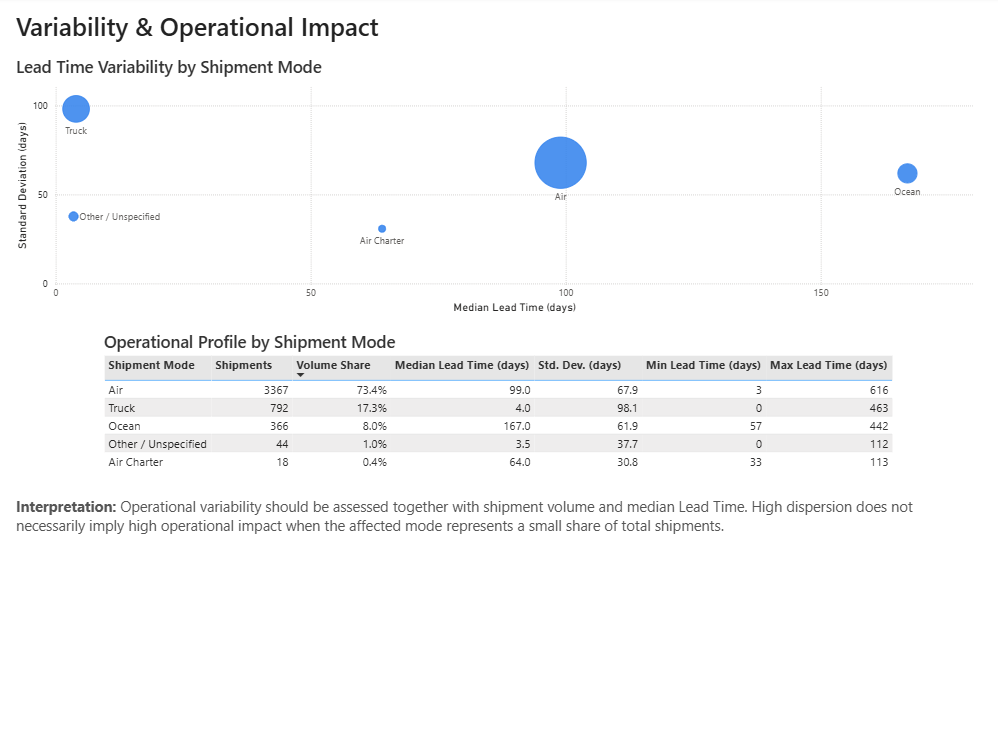

Layout of this report page (visuals, bound fields, positions):
{"tool":"powerbi","page":{"name":"Variability & Operational Impact","canvas":[1280,720],"ordinal":1},"visuals":[{"type":"textbox","box":[16,16,496,64],"z":0},{"type":"scatterChart","title":"Lead Time Variability by Shipment Mode","fields":{"X":["shipments_lead_time_dataset_full.Median Lead Time"],"Size":["shipments_lead_time_dataset_full.Total Shipments"],"Y":["shipments_lead_time_dataset_full.Standard Deviation"],"Series":["shipments_lead_time_dataset_full.Shipment Mode"]},"box":[16,80,1248,336],"z":1000},{"type":"tableEx","title":"Operational Profile by Shipment Mode","fields":{"Values":["shipments_lead_time_dataset_full.Shipment Mode","shipments_lead_time_dataset_full.Total Shipments","shipments_lead_time_dataset_full.Shipment Share %","shipments_lead_time_dataset_full.Median Lead Time","shipments_lead_time_dataset_full.Standard Deviation","shipments_lead_time_dataset_full.Min Lead Time","shipments_lead_time_dataset_full.Max Lead Time"]},"box":[128,432,1024,192],"z":2000},{"type":"textbox","box":[16,640,1248,64],"z":3000}]}

Visuals, with their boxes on the page's 1280x720 design canvas (x1, y1, x2, y2). These are canvas units, not pixel positions in the 998x755 screenshot, which may show the page scaled, cropped or inside an application window:
textbox: region(16, 16, 512, 80)
"Lead Time Variability by Shipment Mode" scatterChart: region(16, 80, 1264, 416)
"Operational Profile by Shipment Mode" tableEx: region(128, 432, 1152, 624)
textbox: region(16, 640, 1264, 704)
